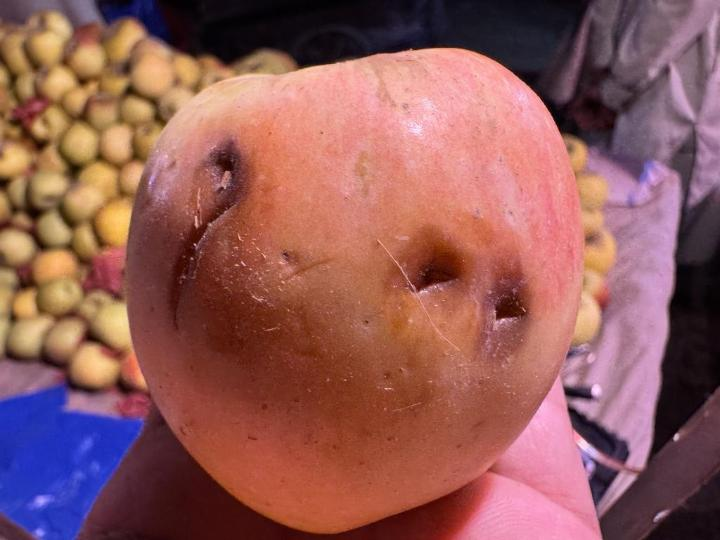apple: (126, 49, 583, 532)
surface_damage: (163, 139, 261, 338), (397, 232, 535, 352)
